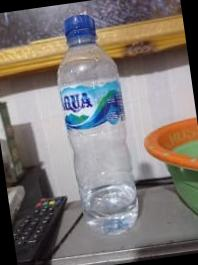Plastik: (58, 15, 137, 233)
